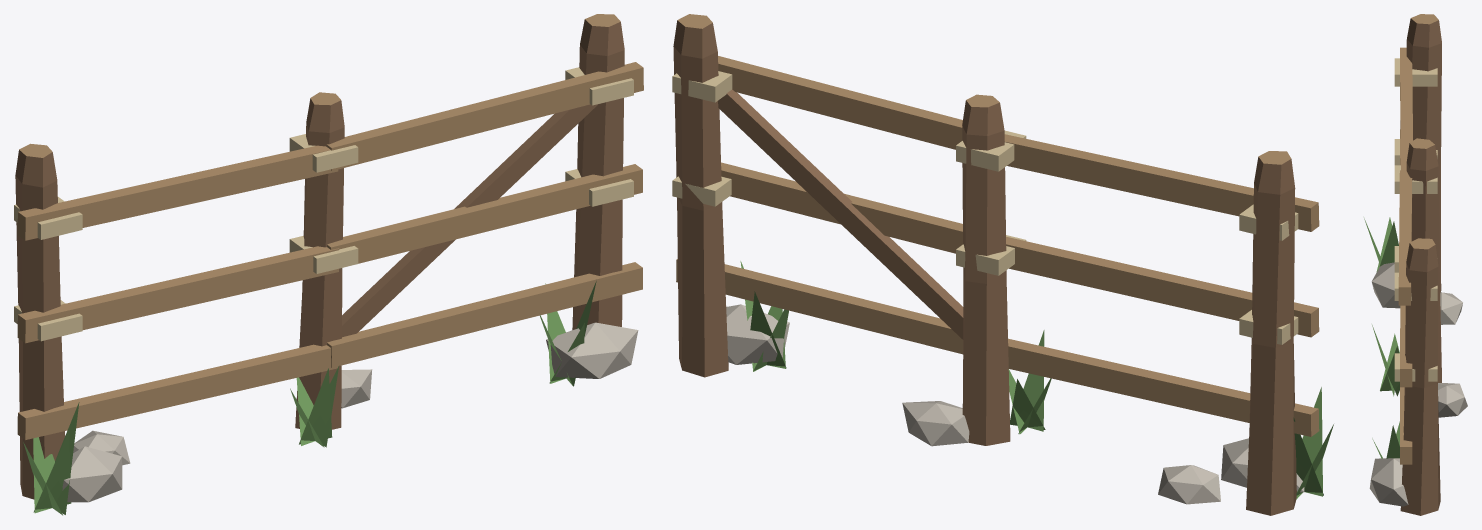
File: OBS_N1_CercaMadera.fbx
The picture shows the model from 3 angles, left to right: view 1: azimuth 30°, elevation 25°; view 2: azimuth 150°, elevation 25°; view 3: azimuth 270°, elevation 25°; orthographic projection. The views are drawn at different scales.
Parts seen in each view (by area): view 1: OBS_N1_CercaMadera; view 2: OBS_N1_CercaMadera; view 3: OBS_N1_CercaMadera.
Part boxes in pixels (x1=…): OBS_N1_CercaMadera: x1=14, y1=14, x2=643, y2=515; OBS_N1_CercaMadera: x1=672, y1=14, x2=1333, y2=515; OBS_N1_CercaMadera: x1=1364, y1=14, x2=1467, y2=515.
Size of the model in its own units: 5.11 by 2.65 by 0.9317.
